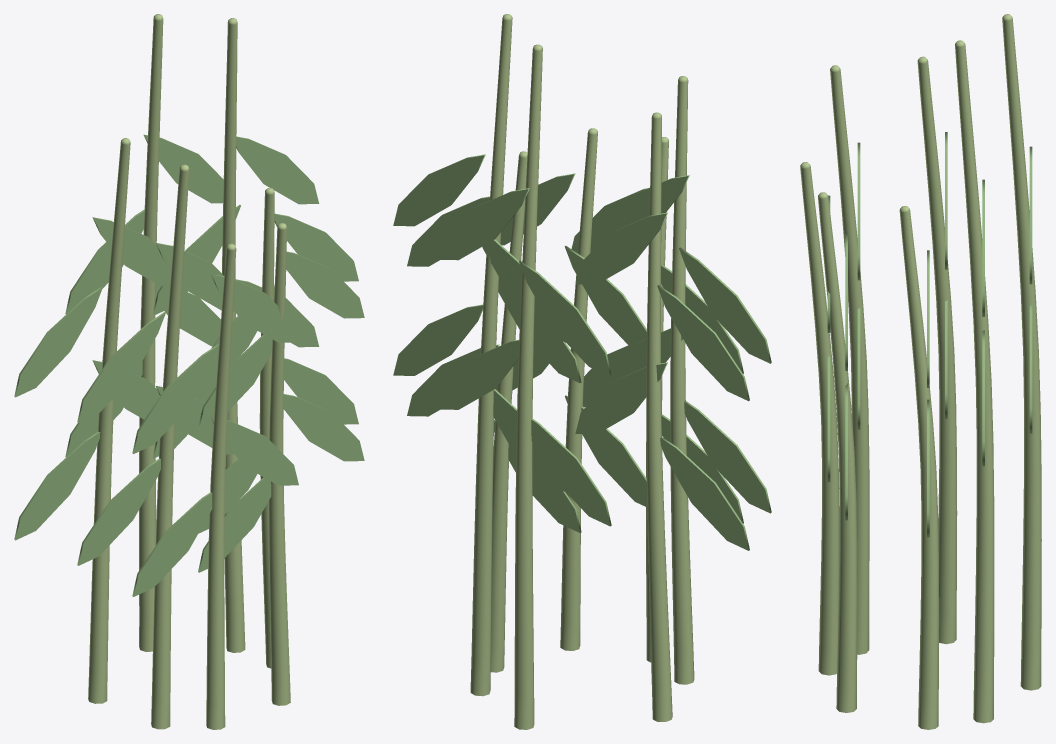
Rendered from polar-tundra-and-alpine-fauna-bamboo-clump-0fce79a9__6088.glb.
3 views of the same model, side by side, from view 1: azimuth 30°, elevation 25°; view 2: azimuth 150°, elevation 25°; view 3: azimuth 270°, elevation 25° (orthographic). The views are drawn at different scales.
Parts seen in each view (by area): view 1: bamboo-clump; view 2: bamboo-clump; view 3: bamboo-clump.
Part boxes in pixels (x1,y1,x2,y2): bamboo-clump: (14,14,364,729); bamboo-clump: (393,14,771,729); bamboo-clump: (800,14,1041,729).
Size of the model in its own units: 1.37 by 2.52 by 0.8212.
